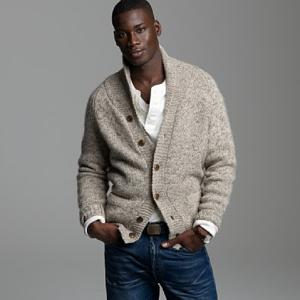S_cardigan sweater: (66, 49, 235, 231)
